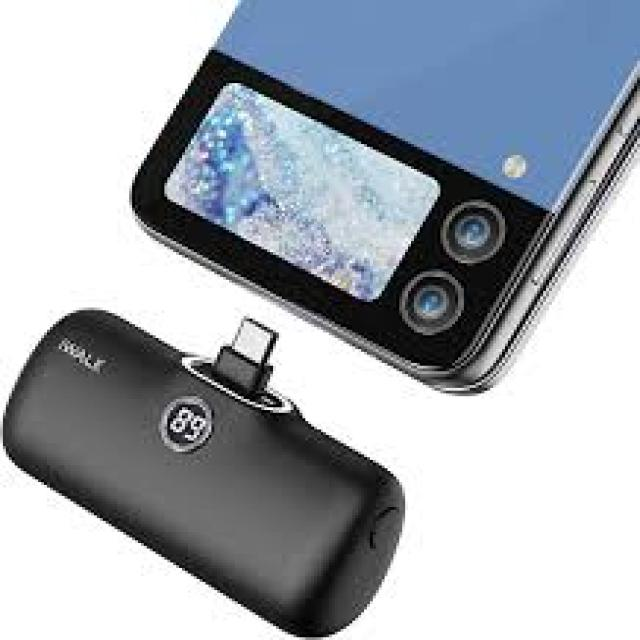power_bank: (4, 305, 406, 640)
